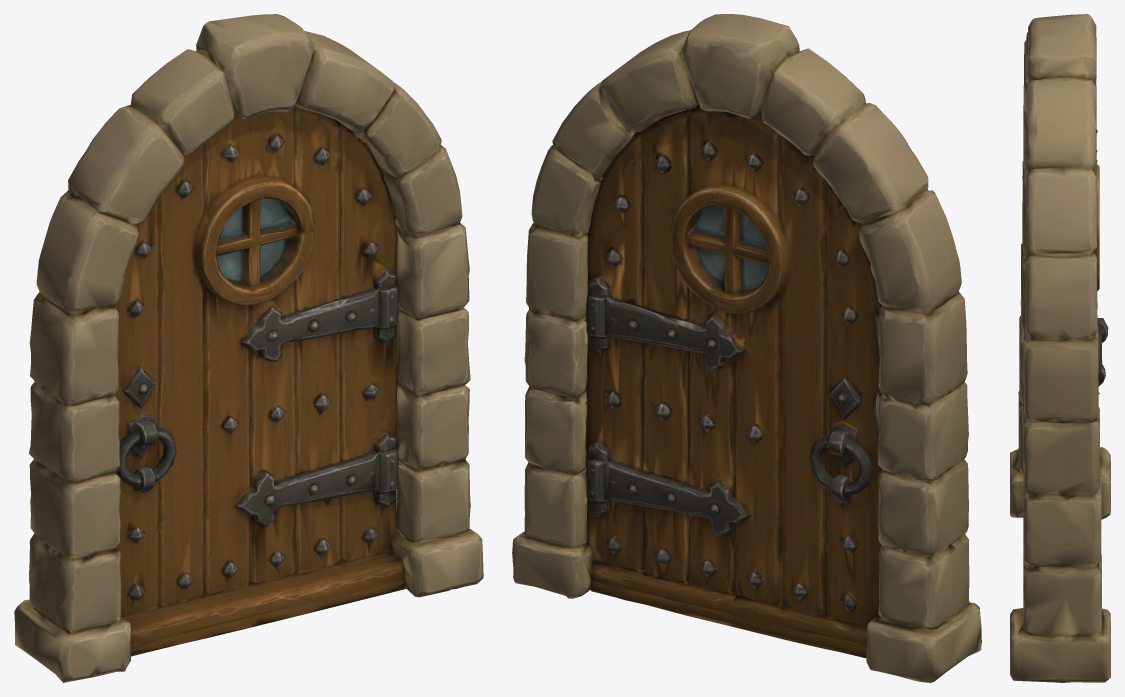
Rendered from mod_door_e.glb.
The picture shows the model from 3 angles, left to right: view 1: azimuth 30°, elevation 25°; view 2: azimuth 150°, elevation 25°; view 3: azimuth 270°, elevation 25°; orthographic projection. The views are drawn at different scales.
Parts seen in each view (by area): view 1: tripo_node_0e28f0b4-e35e-40d4-a10b-b2313f16ca9d; view 2: tripo_node_0e28f0b4-e35e-40d4-a10b-b2313f16ca9d; view 3: tripo_node_0e28f0b4-e35e-40d4-a10b-b2313f16ca9d.
Boxes of the visible parts, box(x1,y1,x2,y2) form: tripo_node_0e28f0b4-e35e-40d4-a10b-b2313f16ca9d: box(14, 14, 483, 682); tripo_node_0e28f0b4-e35e-40d4-a10b-b2313f16ca9d: box(512, 14, 981, 682); tripo_node_0e28f0b4-e35e-40d4-a10b-b2313f16ca9d: box(1010, 14, 1110, 682).
Size of the model in its own units: 0.7293 by 0.9778 by 0.1595.
Materials: 1 (1 with a texture image).
